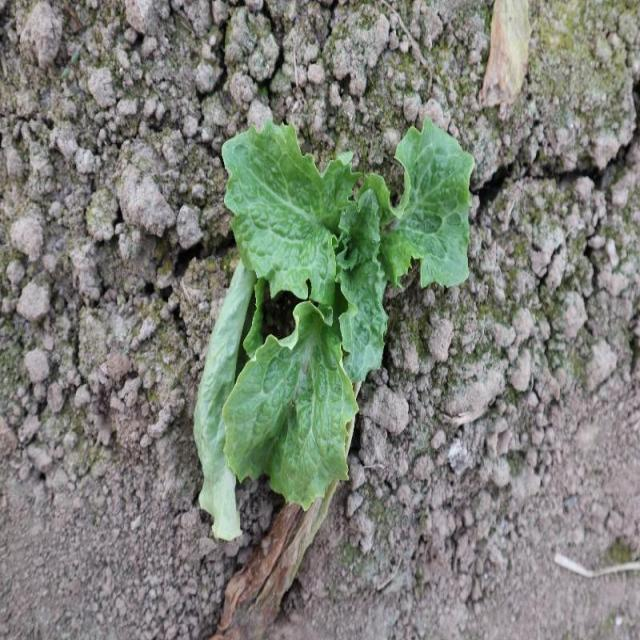crop: (218, 118, 479, 504)
